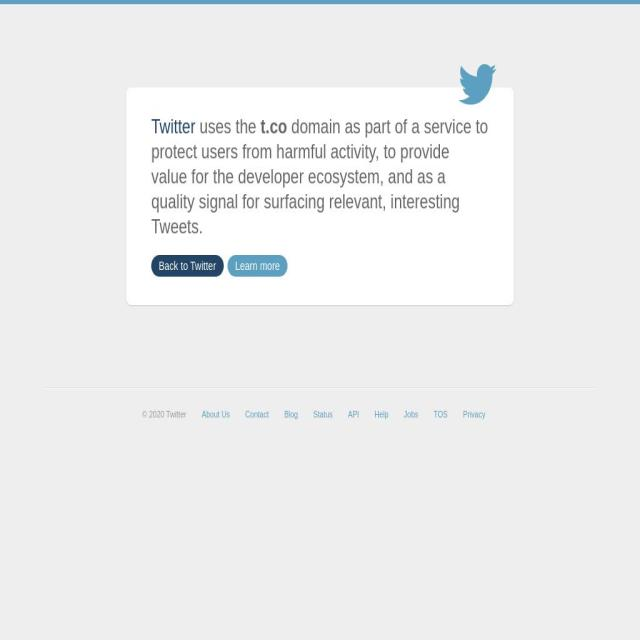button: (459, 64, 496, 111), (151, 255, 224, 277), (228, 255, 288, 277)
image: (459, 64, 496, 105)
link: (151, 115, 196, 137), (201, 409, 230, 419), (245, 409, 269, 419), (462, 409, 486, 419), (313, 409, 333, 419), (374, 409, 390, 419), (433, 409, 448, 419), (284, 409, 298, 419), (404, 409, 418, 419), (348, 409, 360, 419)
text: (151, 115, 488, 237), (195, 115, 261, 137), (260, 115, 287, 137), (149, 409, 187, 419), (142, 409, 149, 419)
